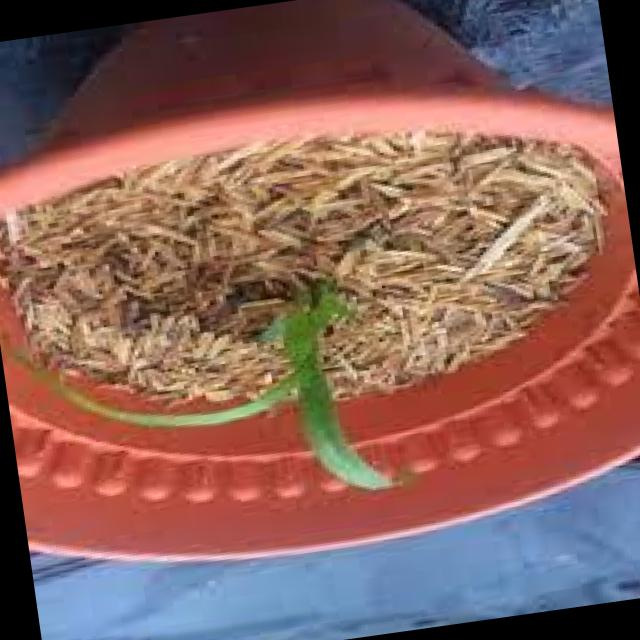leaf: (296, 357, 392, 491), (58, 390, 285, 429)
